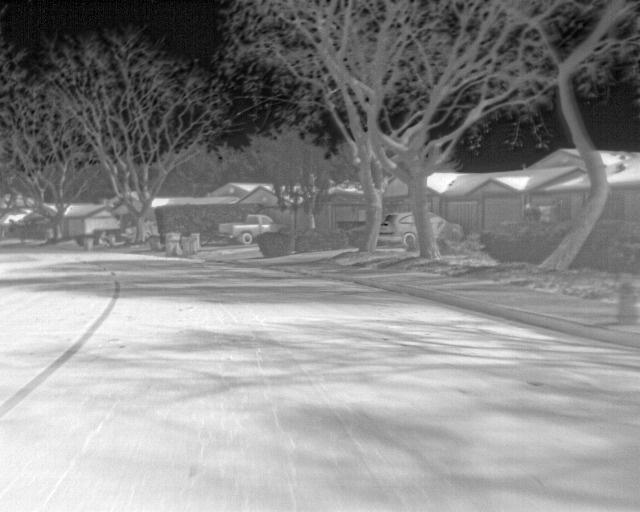car: (219, 212, 281, 247), (377, 210, 418, 248), (431, 212, 460, 244)
